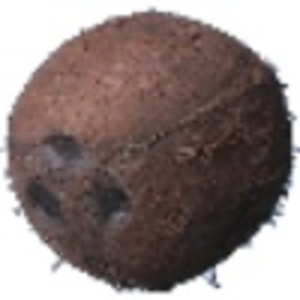coco: (1, 12, 300, 292)
